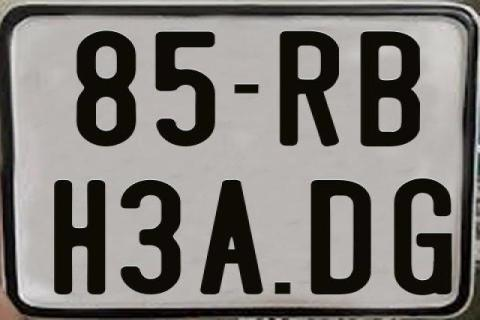0: (154, 30, 220, 148), (76, 28, 140, 144), (121, 178, 182, 294)
A: (198, 178, 266, 294)
B: (360, 29, 424, 149)
D: (309, 178, 374, 296)
G: (392, 176, 454, 296)
H: (51, 180, 105, 298)
R: (279, 31, 341, 149)
